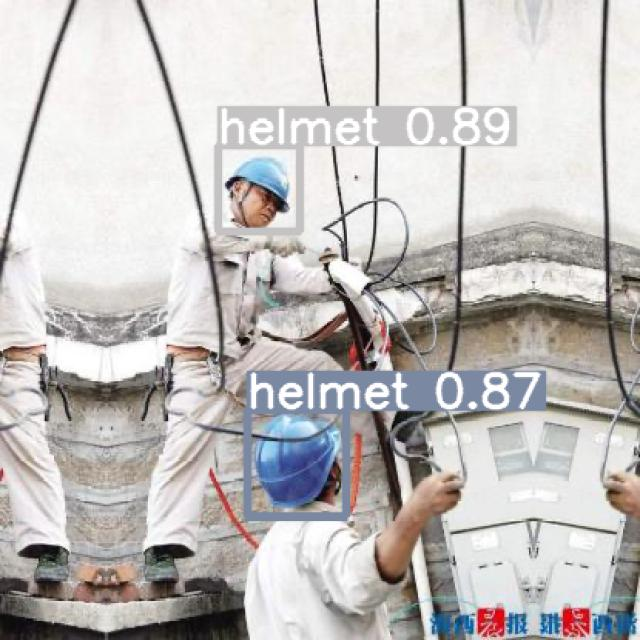helmet: (247, 410, 345, 516), (218, 144, 299, 230)
